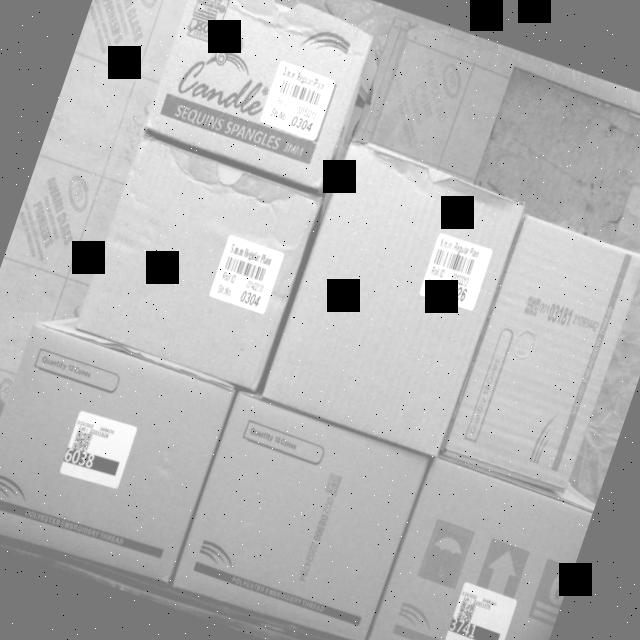box: (261, 141, 527, 458), (0, 317, 239, 597), (74, 132, 326, 394), (167, 390, 431, 640), (439, 212, 640, 500), (143, 0, 377, 193), (366, 455, 592, 640)
